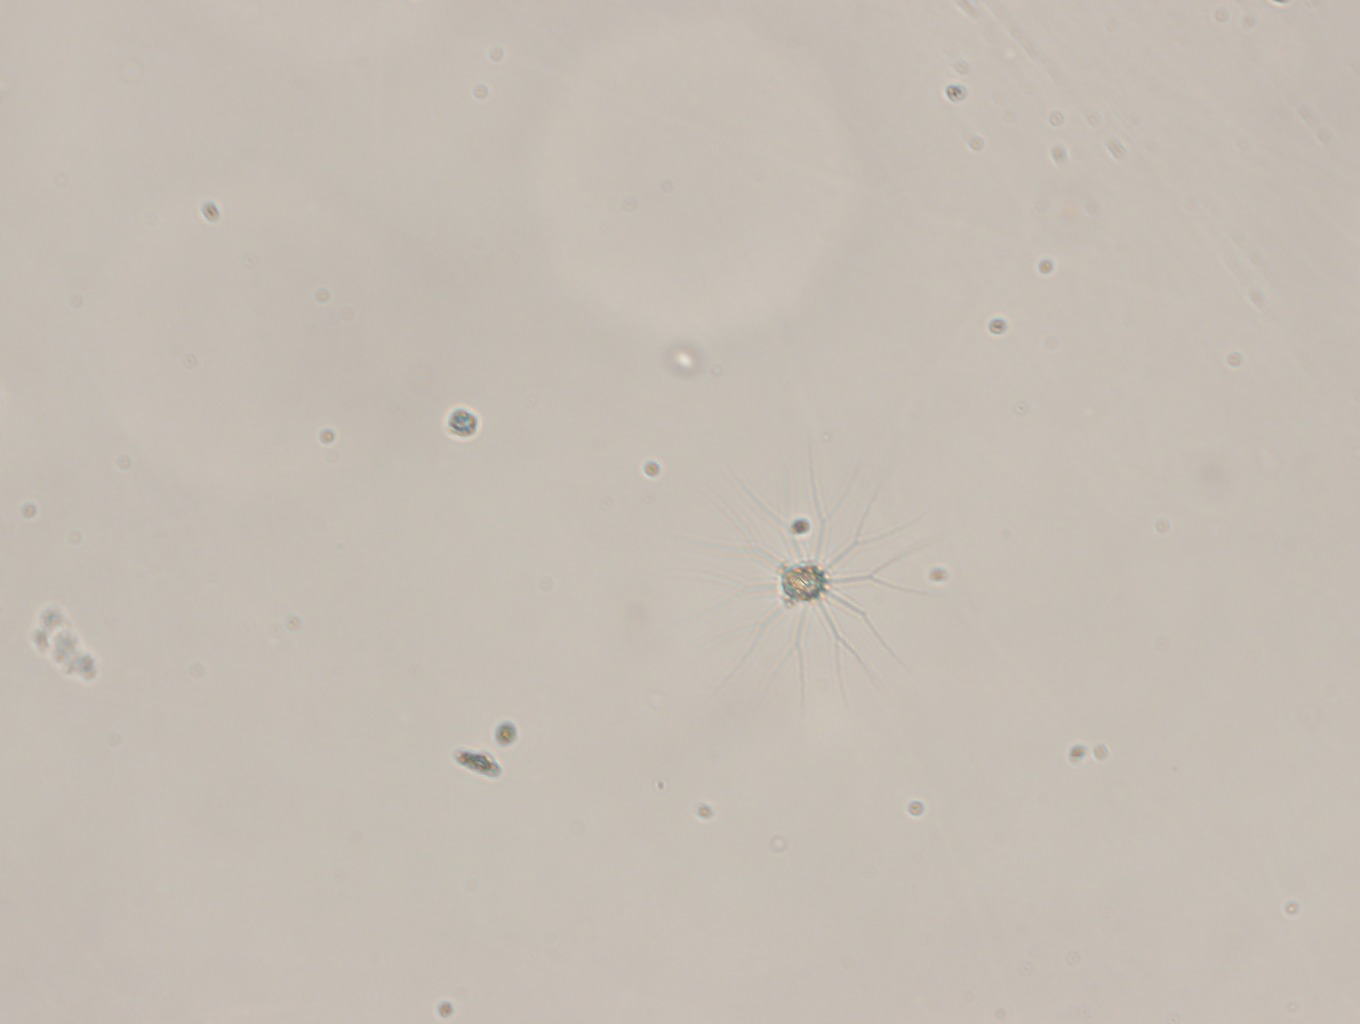bacteriastrum: (683, 447, 944, 715)
